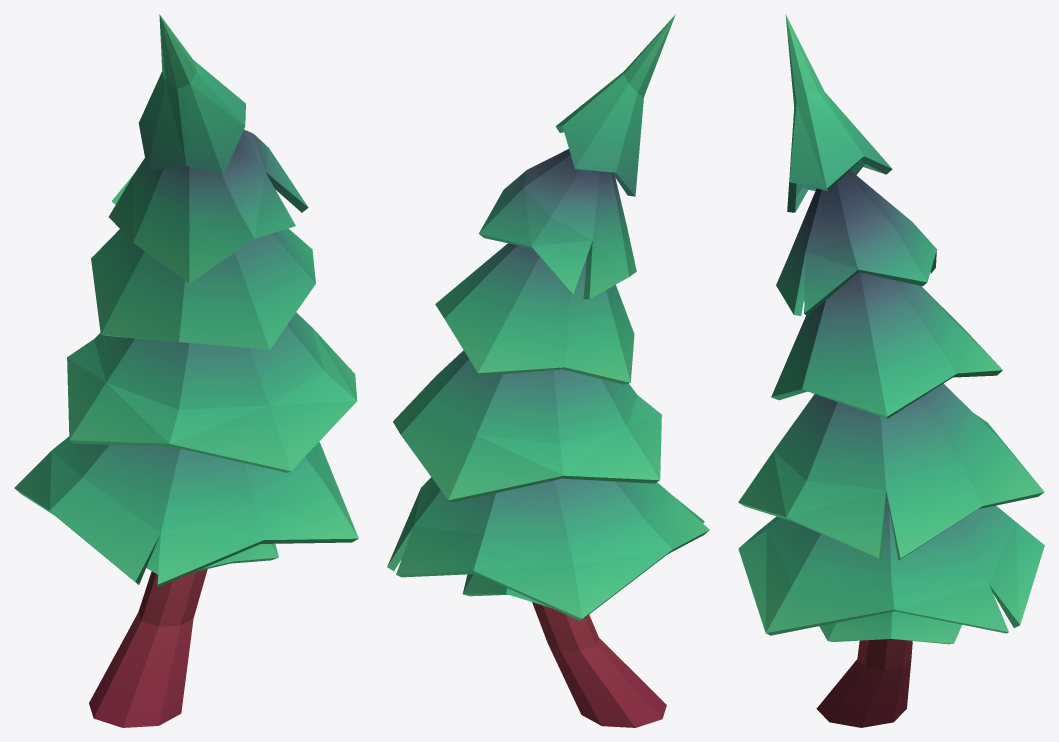
File: Tree_Pine_2.fbx
3 views of the same model, side by side, from view 1: azimuth 30°, elevation 25°; view 2: azimuth 150°, elevation 25°; view 3: azimuth 270°, elevation 25° (orthographic). The views are drawn at different scales.
Parts seen in each view (by area): view 1: Pine Tree 2; view 2: Pine Tree 2; view 3: Pine Tree 2.
Part boxes in pixels (<box>): Pine Tree 2: <box>14,14,358,727</box>; Pine Tree 2: <box>387,14,709,727</box>; Pine Tree 2: <box>738,14,1044,727</box>.
Size of the model in its own units: 164 by 381 by 154.
